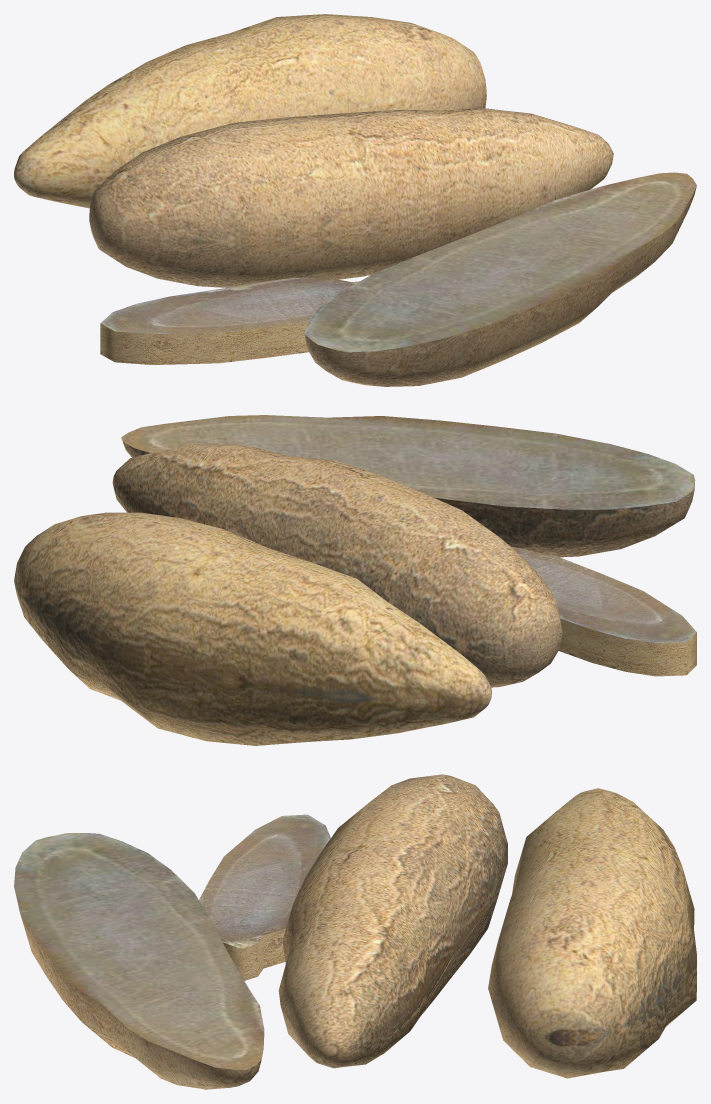
File: yujin.FBX
3 renders of one model, top to bottom at view 1: azimuth 30°, elevation 25°; view 2: azimuth 150°, elevation 25°; view 3: azimuth 270°, elevation 25°, orthographic. The views are drawn at different scales.
Visible parts, largest first — view 1: Cylinder001, Cylinder003, Cylinder002, Line001; view 2: Cylinder002, Cylinder001, Cylinder003, Line001; view 3: Cylinder001, Cylinder002, Cylinder003, Line001.
Boxes of the visible parts, box(x1,y1,x2,y2) form: Cylinder001: box(89, 108, 613, 287); Cylinder003: box(304, 172, 696, 386); Cylinder002: box(14, 14, 486, 208); Line001: box(100, 277, 359, 364); Cylinder002: box(14, 512, 491, 745); Cylinder001: box(112, 443, 562, 687); Cylinder003: box(121, 415, 695, 557); Line001: box(511, 546, 696, 676); Cylinder001: box(278, 774, 507, 1068); Cylinder002: box(488, 788, 696, 1078); Cylinder003: box(14, 833, 264, 1089); Line001: box(199, 814, 330, 980).
Bounding box in the file's own units: 56.77 × 17 × 56.03.
1 material, 1 textured.
